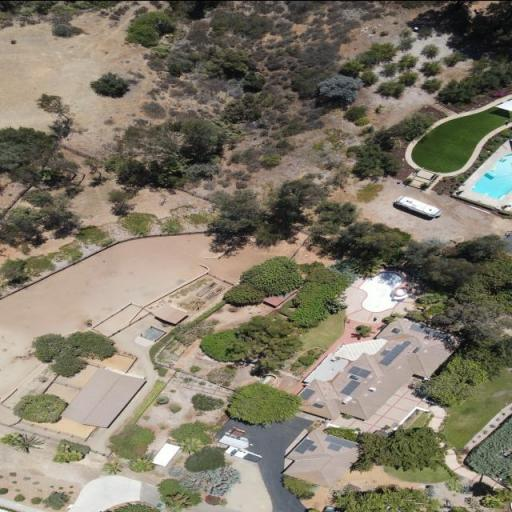solar-panel: (378, 340, 412, 365), (409, 323, 452, 340), (323, 434, 356, 451), (294, 438, 318, 453), (340, 379, 361, 395), (347, 365, 372, 378), (298, 387, 316, 400)
